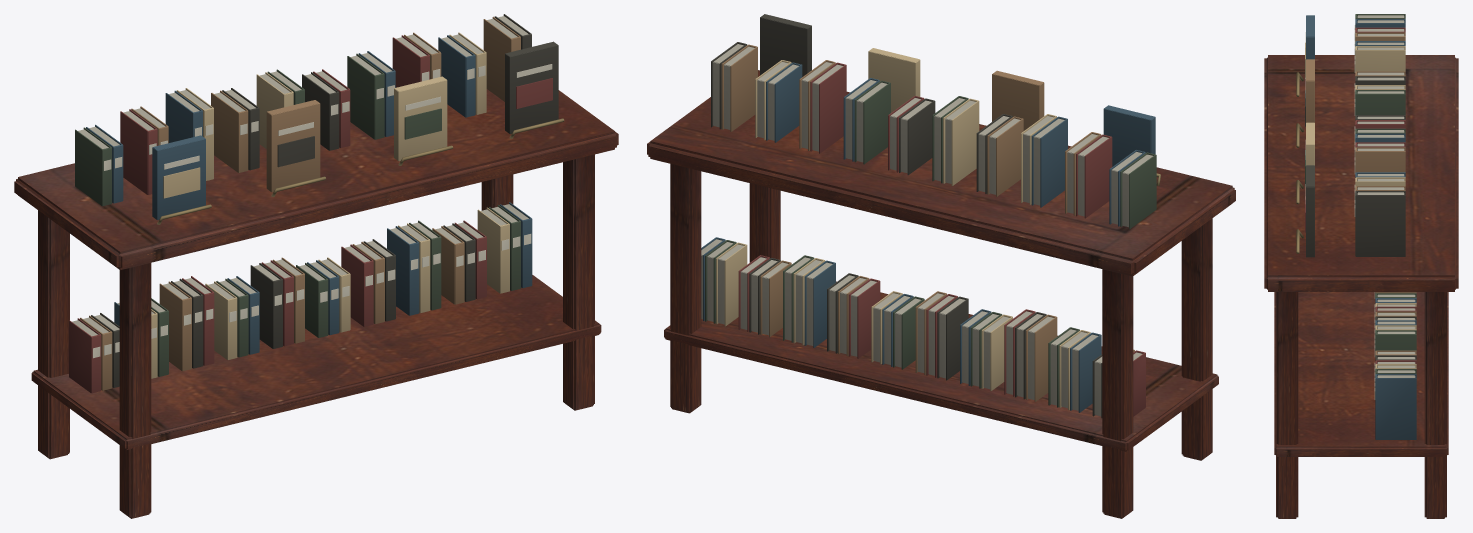
File: booksellers-table.glb
The picture shows the model from 3 angles, left to right: view 1: azimuth 30°, elevation 25°; view 2: azimuth 150°, elevation 25°; view 3: azimuth 270°, elevation 25°; orthographic projection. The views are drawn at different scales.
Parts seen in each view (by area): view 1: Frame; view 2: Frame; view 3: Frame.
Part boxes in pixels (x1,y1,x2,y2): Frame: [14, 14, 618, 518]; Frame: [647, 14, 1235, 518]; Frame: [1264, 14, 1458, 518].
Size of the model in its own units: 1.58 by 1.07 by 0.58.
9 materials, 1 textured.
